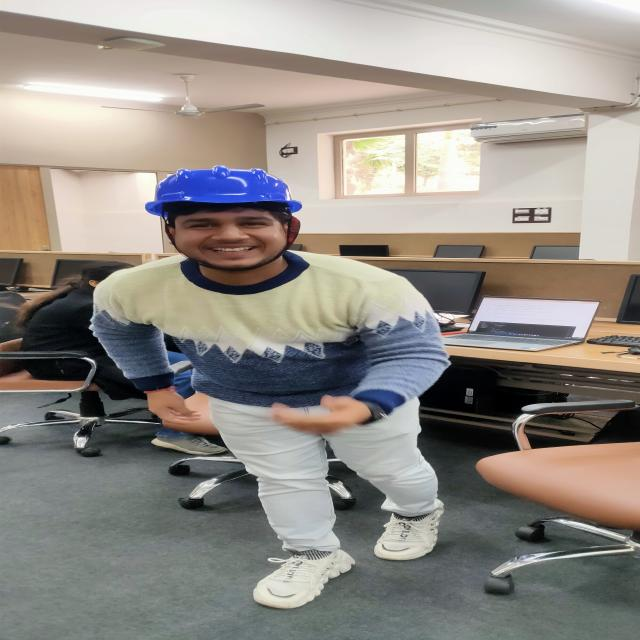no jacket: (94, 166, 447, 608)
